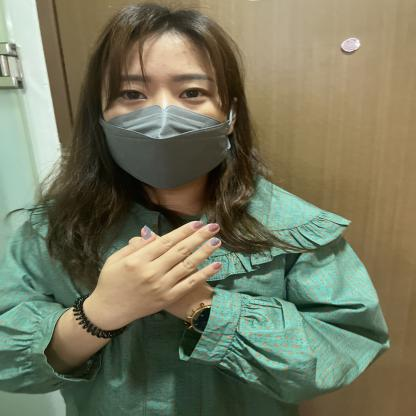Grieve: (64, 184, 261, 342)
